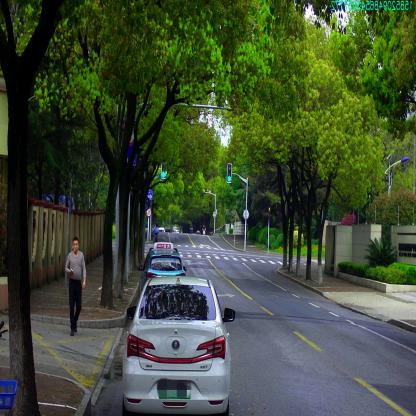traffic-light: (161, 159, 166, 178), (228, 164, 232, 182)
